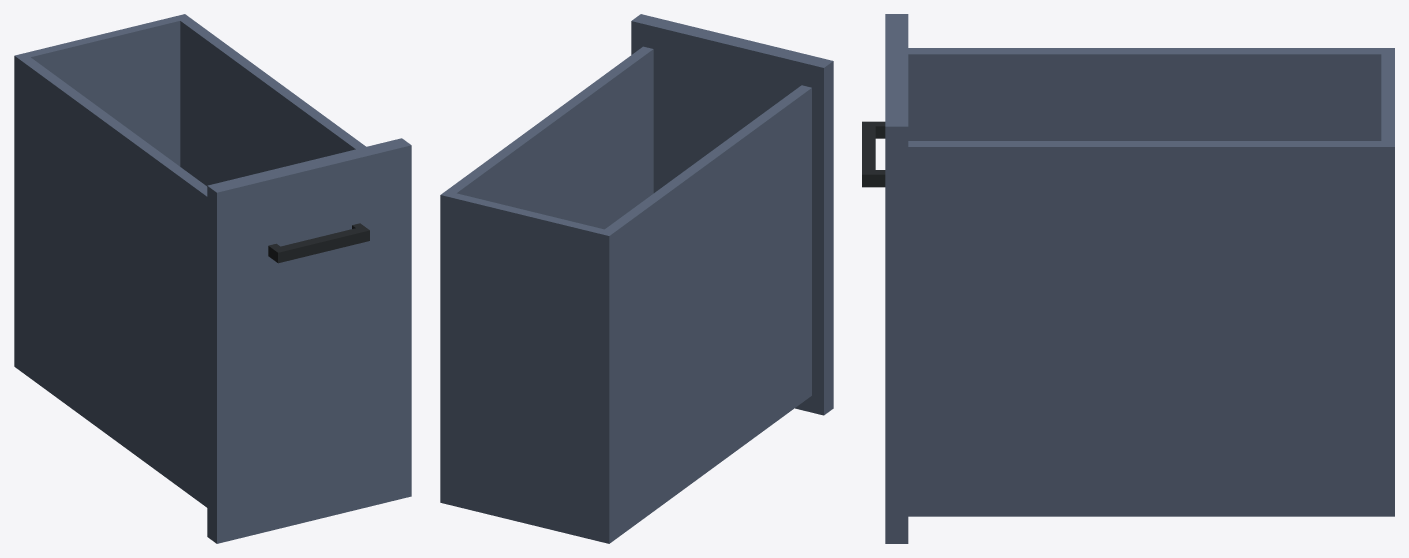
File: Door1_C4_08.fbx
3 views of the same model, side by side, from view 1: azimuth 30°, elevation 25°; view 2: azimuth 150°, elevation 25°; view 3: azimuth 270°, elevation 25° (orthographic). The views are drawn at different scales.
Parts seen in each view (by area): view 1: Door1_C4_08; view 2: Door1_C4_08; view 3: Door1_C4_08.
Part boxes in pixels (x1=…): Door1_C4_08: x1=14, y1=14, x2=411, y2=543; Door1_C4_08: x1=440, y1=14, x2=833, y2=543; Door1_C4_08: x1=862, y1=14, x2=1394, y2=543.
Size of the model in its own units: 29 by 50 by 57.89.
